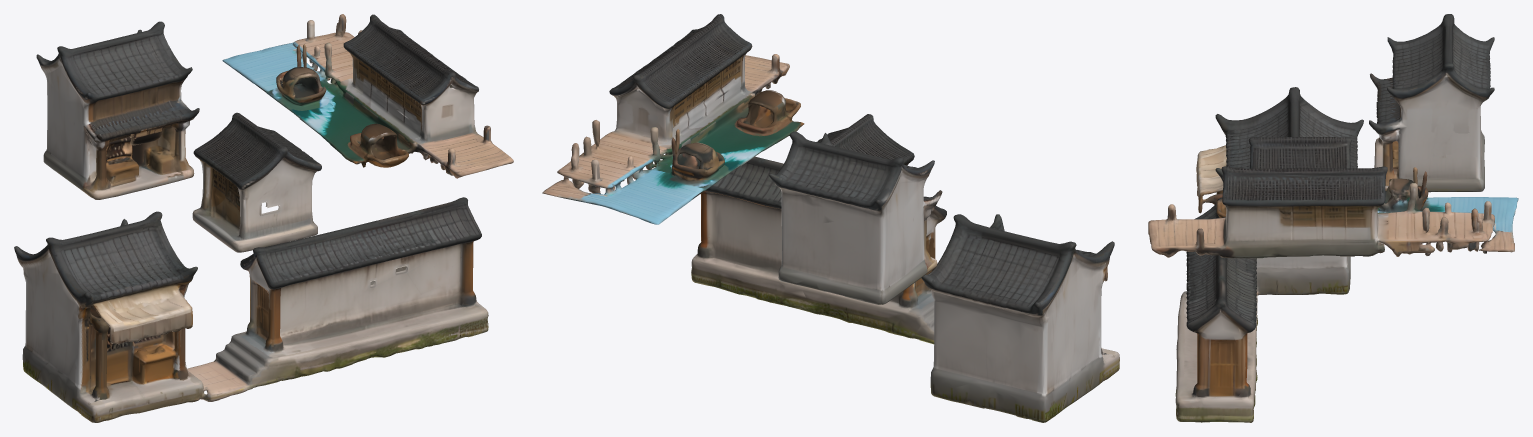
3 renders of one model, left to right at view 1: azimuth 30°, elevation 25°; view 2: azimuth 150°, elevation 25°; view 3: azimuth 270°, elevation 25°, orthographic. The views are drawn at different scales.
Visible parts, largest first — view 1: material.001; view 2: material.001; view 3: material.001.
Part boxes in pixels (x1,y1,x2,y2): material.001: (14,14,513,422); material.001: (542,14,1119,422); material.001: (1148,14,1518,422).
Size of the model in its own units: 0.9277 by 0.5972 by 0.7366.
1 material, 1 textured.
